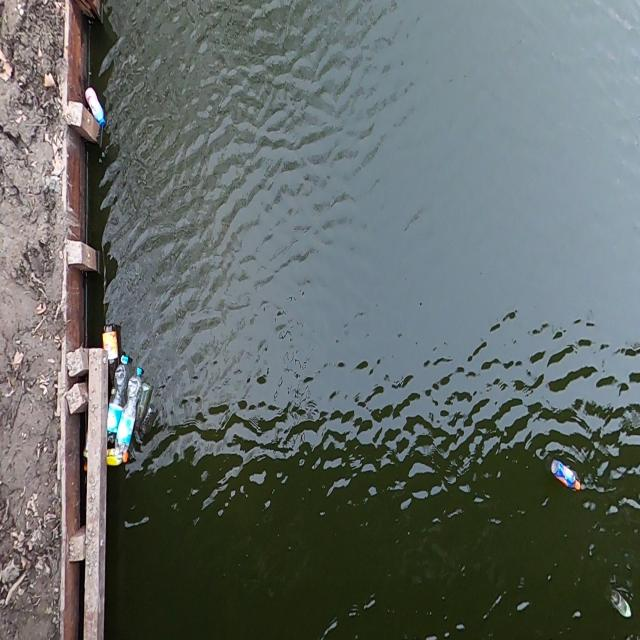Bouteille plastique: (112, 349, 145, 458), (105, 348, 136, 449), (98, 307, 125, 401), (547, 454, 583, 498), (84, 84, 106, 130), (607, 591, 632, 624)
